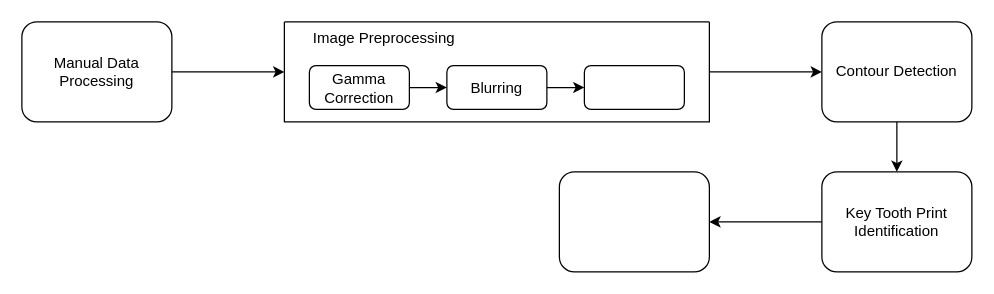
This 994x294 diagram has some shape labels left out. Here are the shapes that lost their labels. From the top down, the box of each, then its label:
(583, 64, 684, 109): Split image into two
(558, 171, 709, 272): Feature Calculation
